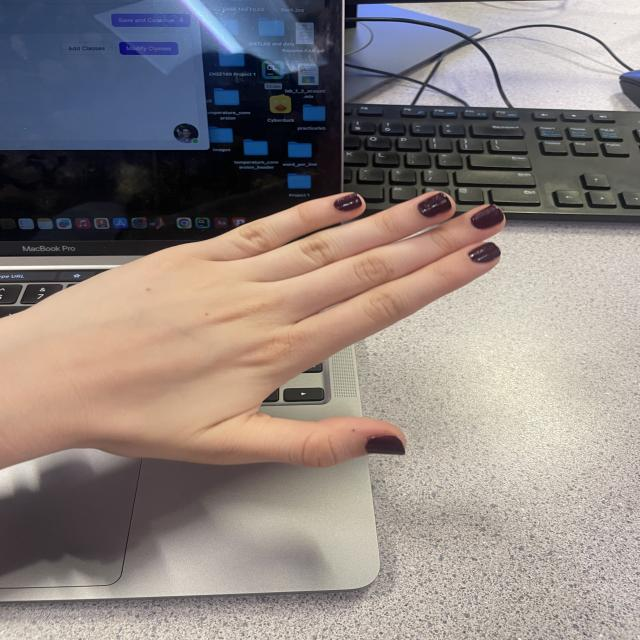keyboard-with-hands: (0, 260, 369, 594)
